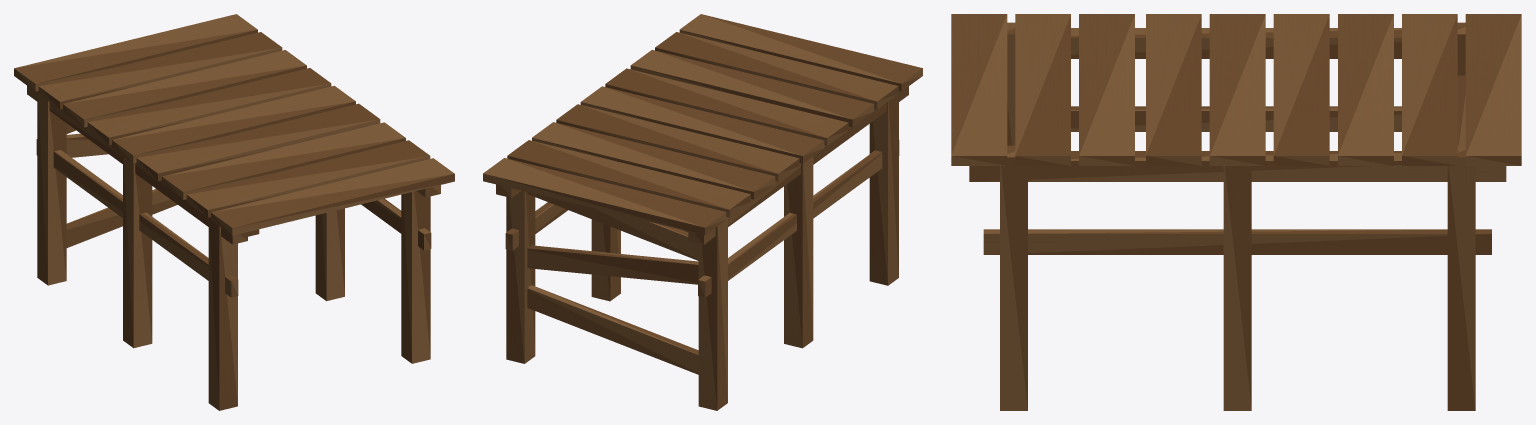
Rendered from Pier_2.fbx.
The picture shows the model from 3 angles, left to right: view 1: azimuth 30°, elevation 25°; view 2: azimuth 150°, elevation 25°; view 3: azimuth 270°, elevation 25°; orthographic projection. The views are drawn at different scales.
Parts seen in each view (by area): view 1: polySurface181; view 2: polySurface181; view 3: polySurface181.
Boxes of the visible parts, left/top/right/bottom form: polySurface181: left=14, top=14, right=454, bottom=410; polySurface181: left=483, top=14, right=922, bottom=410; polySurface181: left=951, top=14, right=1521, bottom=410.
Bounding box in the file's own units: 300 × 255 × 510.
